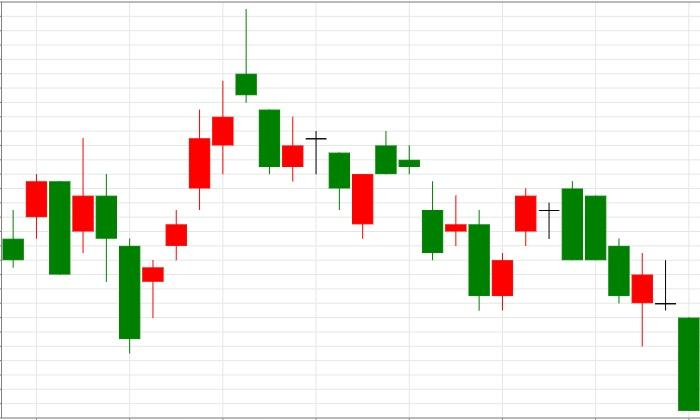evening_star_fall: (468, 181, 584, 311)
shooting_star_fall: (118, 8, 258, 354)
